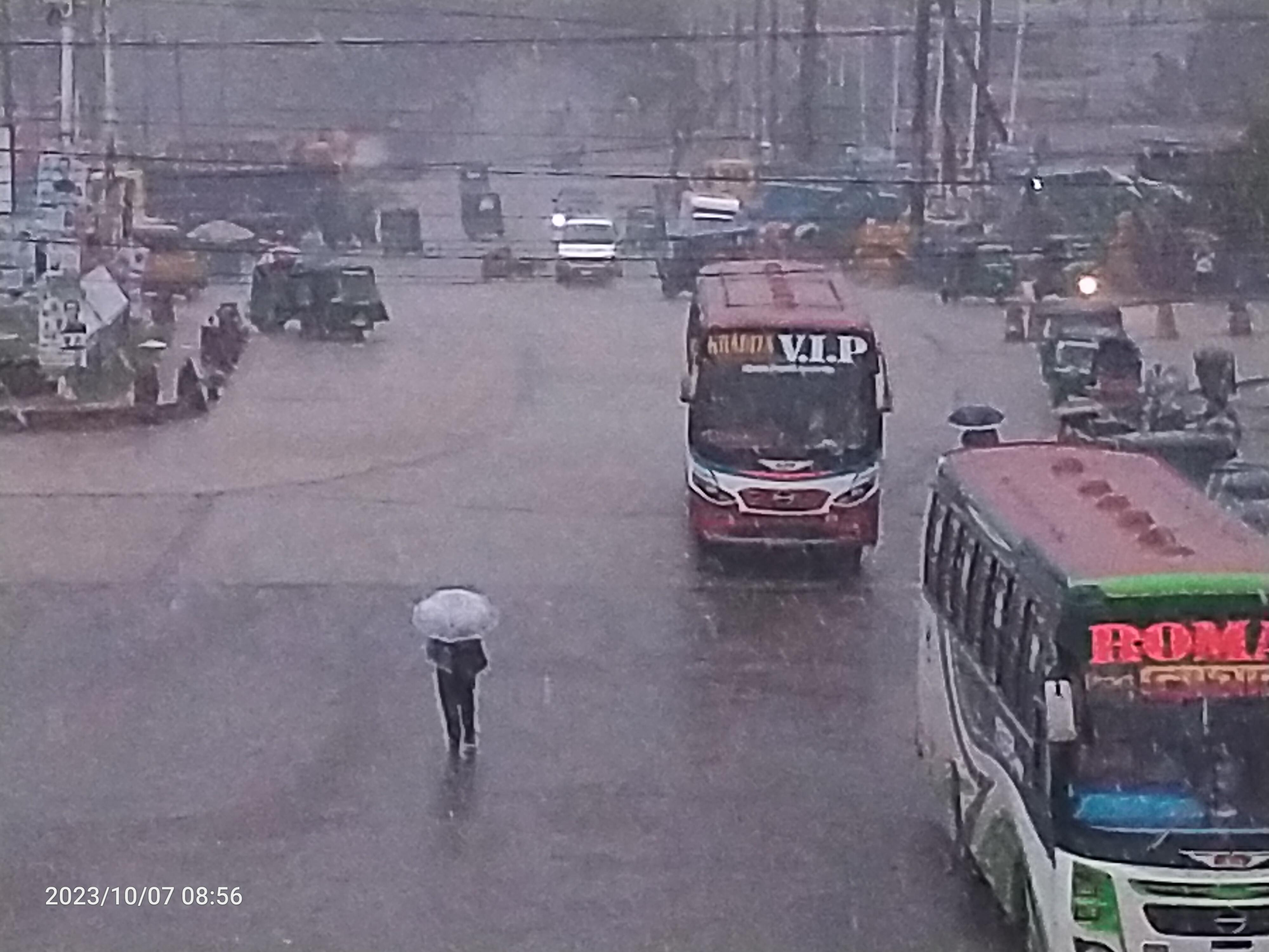Bus: (882, 417, 1269, 952), (654, 252, 923, 615)
Car: (547, 193, 625, 296)
